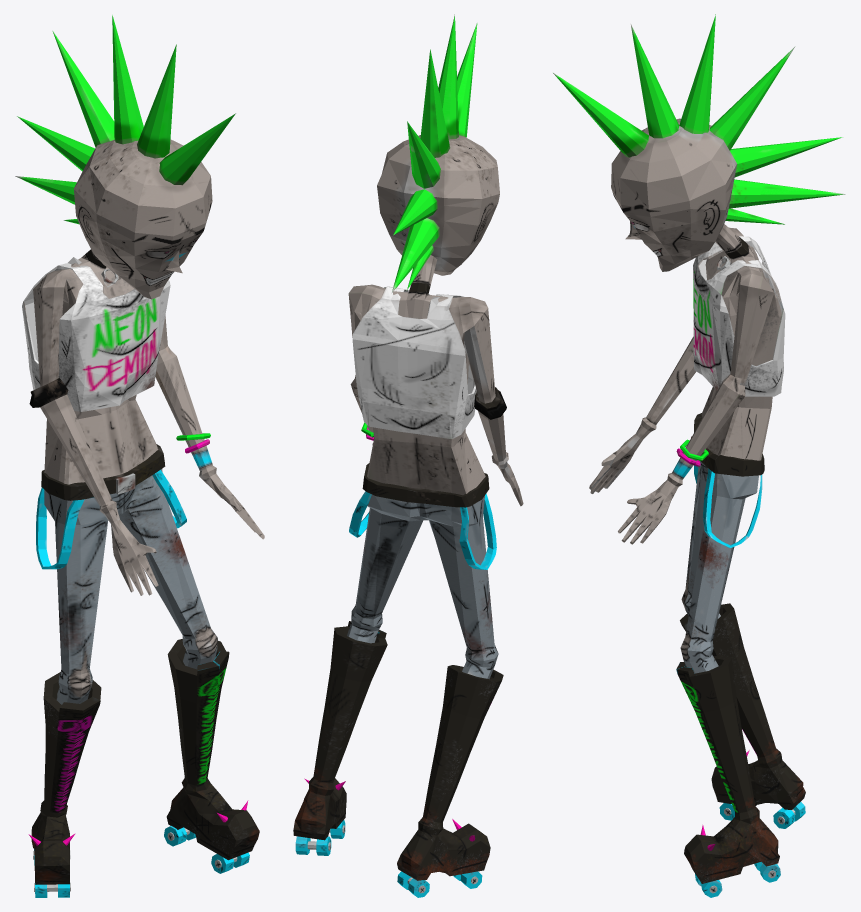
File: punkAnimation_000037.obj
The picture shows the model from 3 angles, left to right: view 1: azimuth 30°, elevation 25°; view 2: azimuth 150°, elevation 25°; view 3: azimuth 270°, elevation 25°; orthographic projection. The views are drawn at different scales.
Visible parts, largest first — view 1: Cube.004_Cube.003; view 2: Cube.004_Cube.003; view 3: Cube.004_Cube.003.
Part boxes in pixels (x1,y1,x2,y2): Cube.004_Cube.003: [15, 15, 264, 897]; Cube.004_Cube.003: [293, 14, 523, 897]; Cube.004_Cube.003: [553, 14, 845, 897].
Size of the model in its own units: 1.91 by 7.4 by 2.4.
